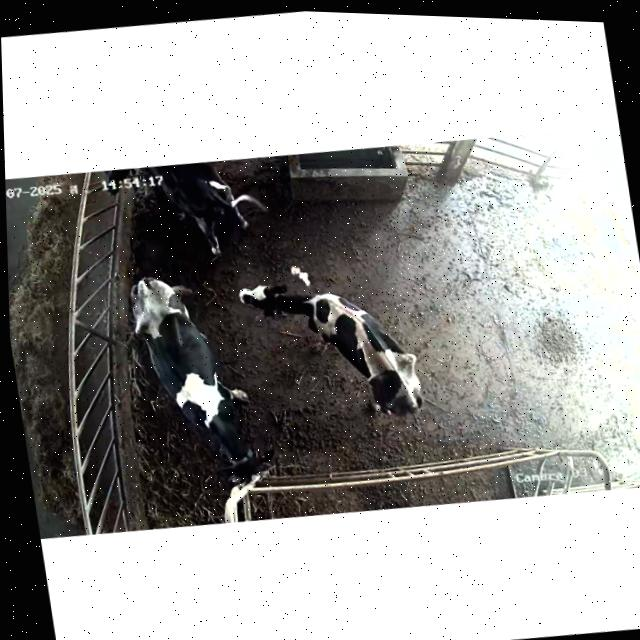stand: (232, 253, 455, 448), (118, 261, 279, 496), (104, 150, 270, 271)
